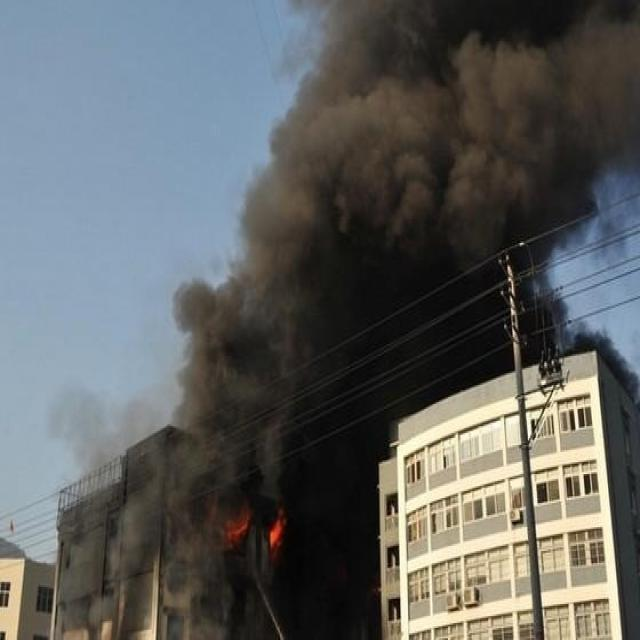Smoke: (56, 1, 640, 640), (266, 513, 282, 546)
